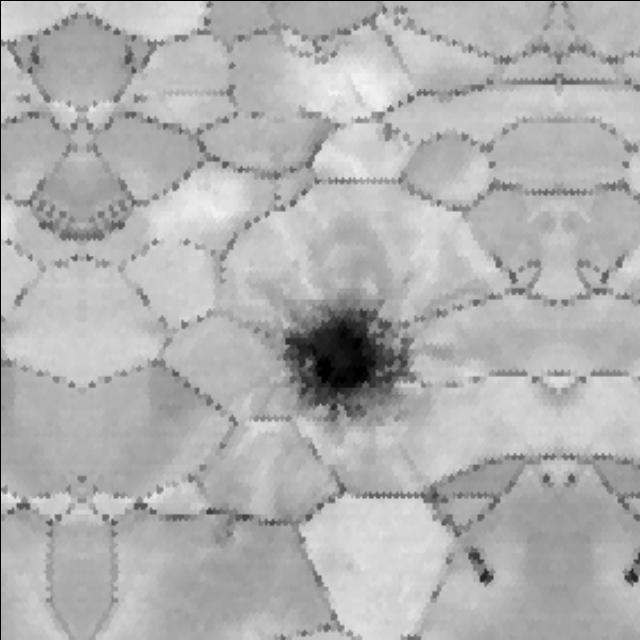good_void: (257, 267, 437, 444), (460, 540, 502, 591), (296, 35, 340, 67), (210, 514, 244, 553), (616, 540, 640, 591), (379, 118, 410, 148), (10, 84, 39, 110), (125, 84, 153, 110), (25, 41, 50, 68), (115, 42, 137, 68), (561, 468, 582, 494), (536, 469, 556, 494)
